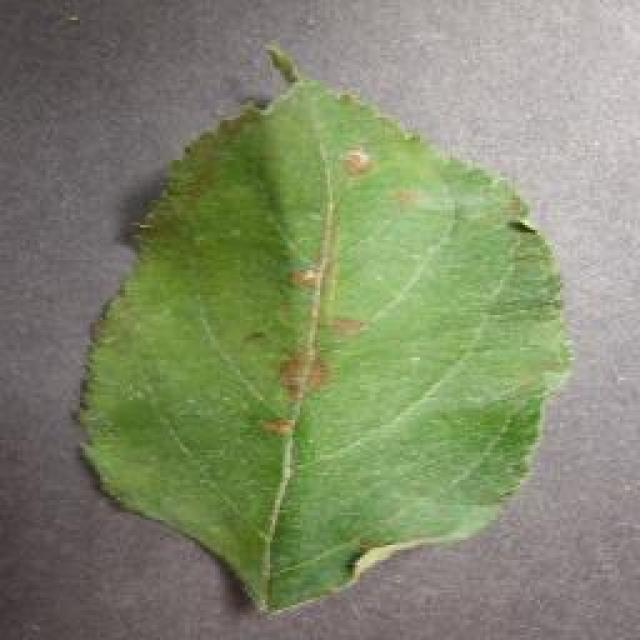apple healthy: (73, 40, 575, 618)
